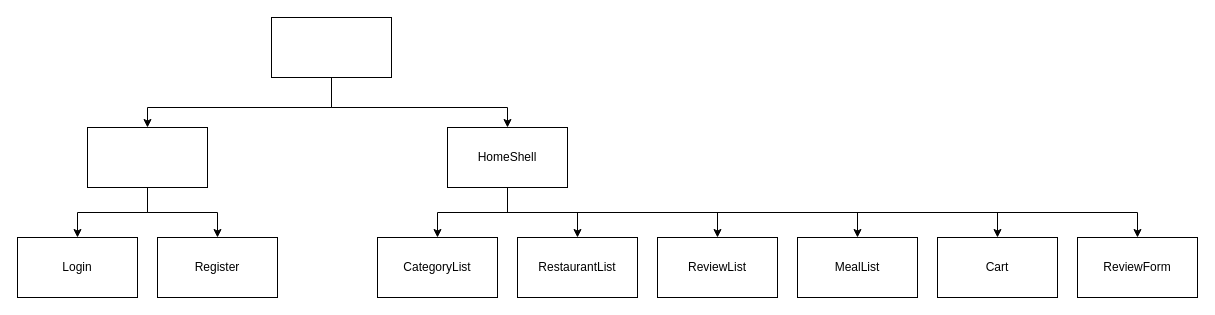
Some shapes in this 1215 by 315 pixel diagram are drawn without their labels. Here are the shapes that lost their labels. From the top down, the box of each, then its label:
(270, 16, 392, 78): APP
(86, 126, 208, 188): LoginShell
